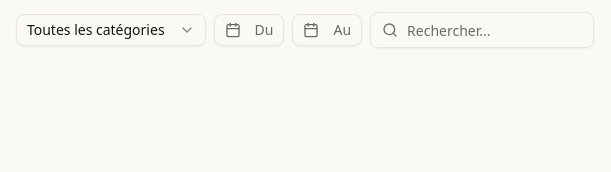
Test: TransactionFilters › search filter › shows clear icon when search has value
In the field with placeholder "Rechercher...": (482,30) [370,12,594,48], type "test"
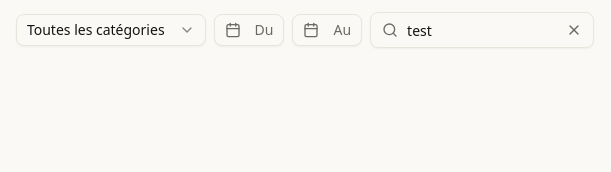
Now the 4th button is shown, box [566,22,582,38]
